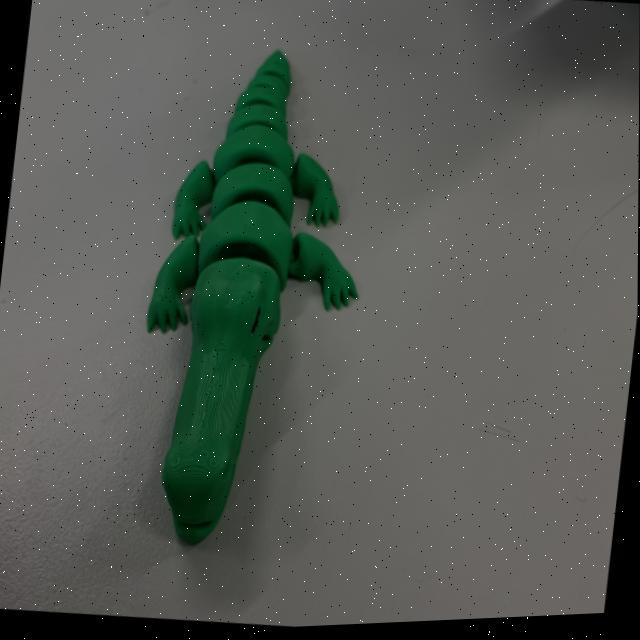crocodile: (107, 14, 394, 591)
